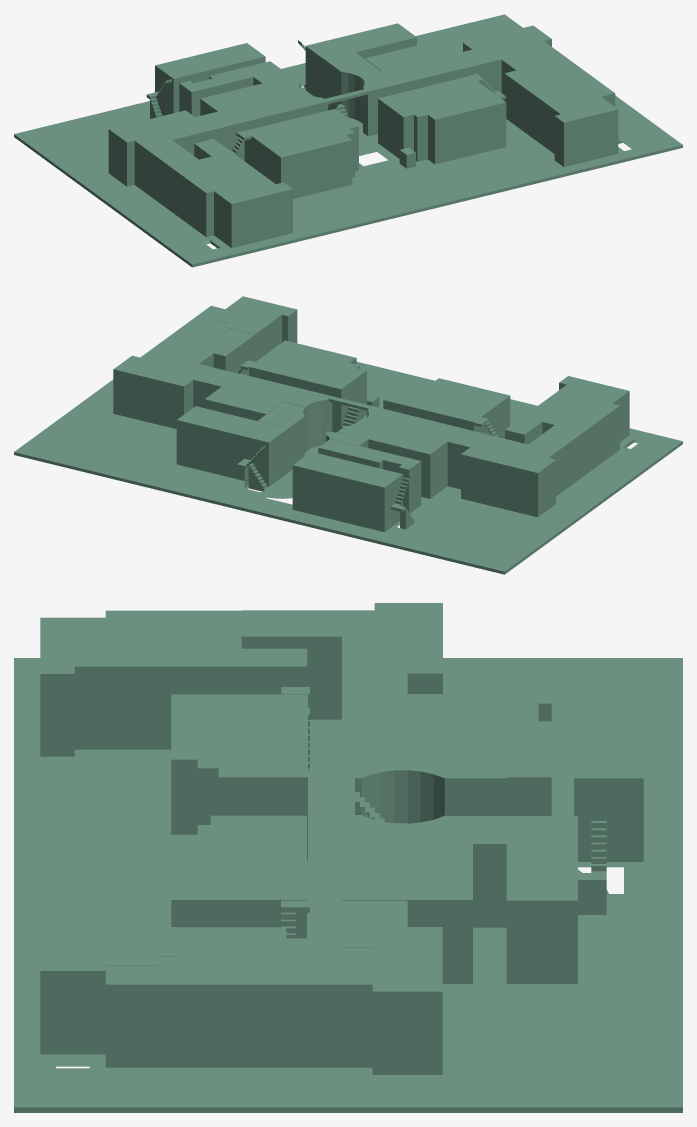
File: OCH 2F (1).glb
3 renders of one model, top to bottom at view 1: azimuth 30°, elevation 25°; view 2: azimuth 150°, elevation 25°; view 3: azimuth 270°, elevation 25°, orthographic. The views are drawn at different scales.
Visible parts, largest first — view 1: 2F; view 2: 2F; view 3: 2F.
Part boxes in pixels (left/top/right/bottom): 2F: left=14, top=14, right=682, bottom=267; 2F: left=14, top=296, right=682, bottom=574; 2F: left=14, top=603, right=682, bottom=1112.
Size of what is drawn, in the model's own units: 50.04 by 4.65 by 31.49.
